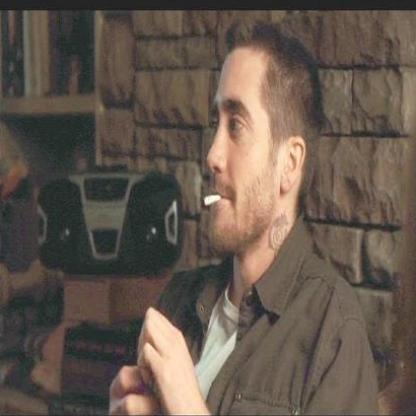cigarette: (202, 192, 223, 208)
person: (147, 18, 350, 415)
